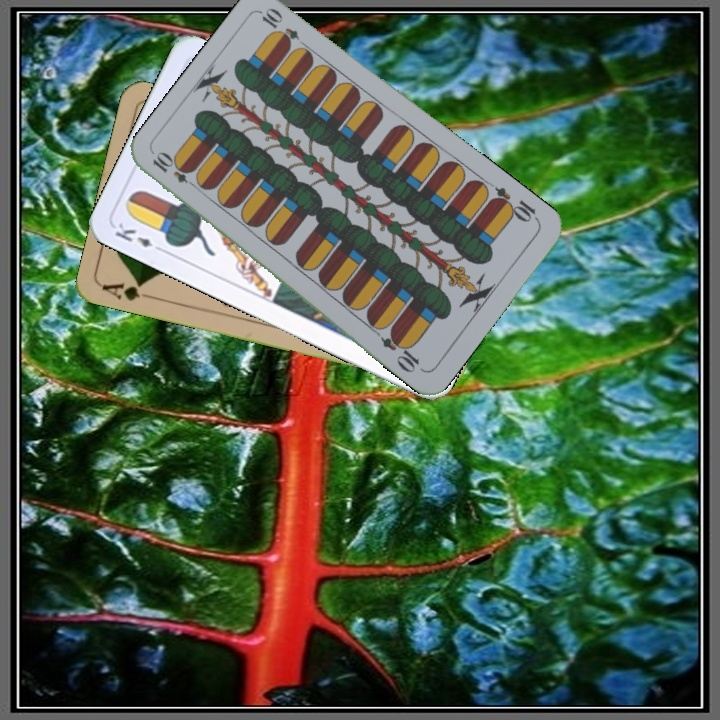E10: (486, 182, 542, 226), (148, 149, 202, 192)
EK: (110, 218, 167, 256)
GA: (99, 278, 158, 304)
